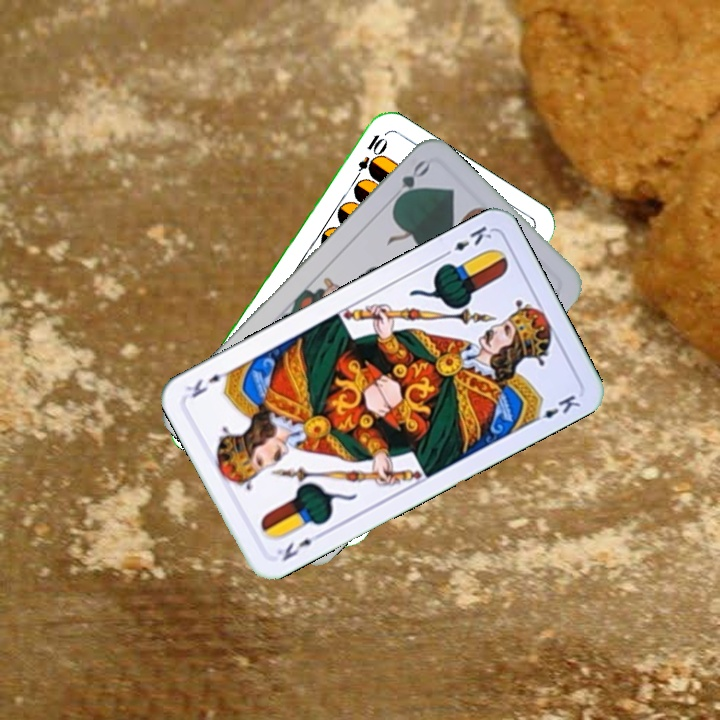E10: (349, 130, 387, 186)
EK: (438, 221, 495, 260), (272, 528, 326, 564)
GO: (386, 156, 432, 209)
